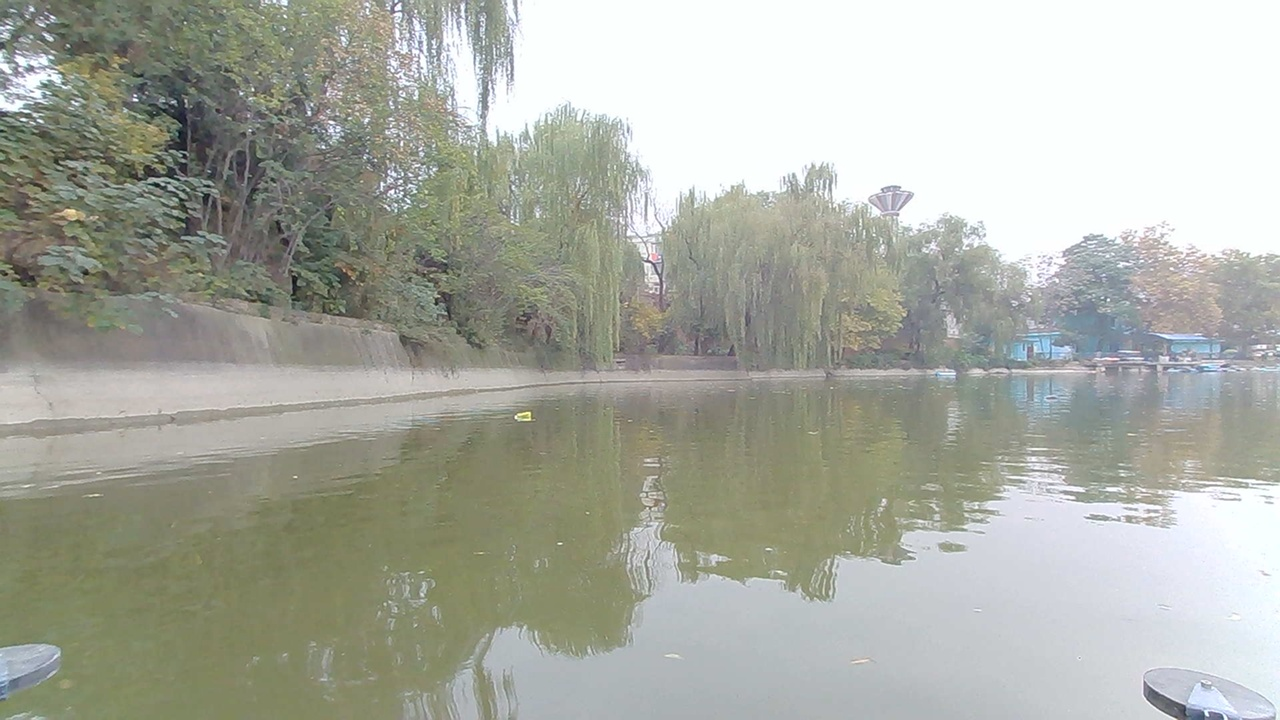bottle: (509, 405, 543, 428), (1034, 387, 1063, 402)
